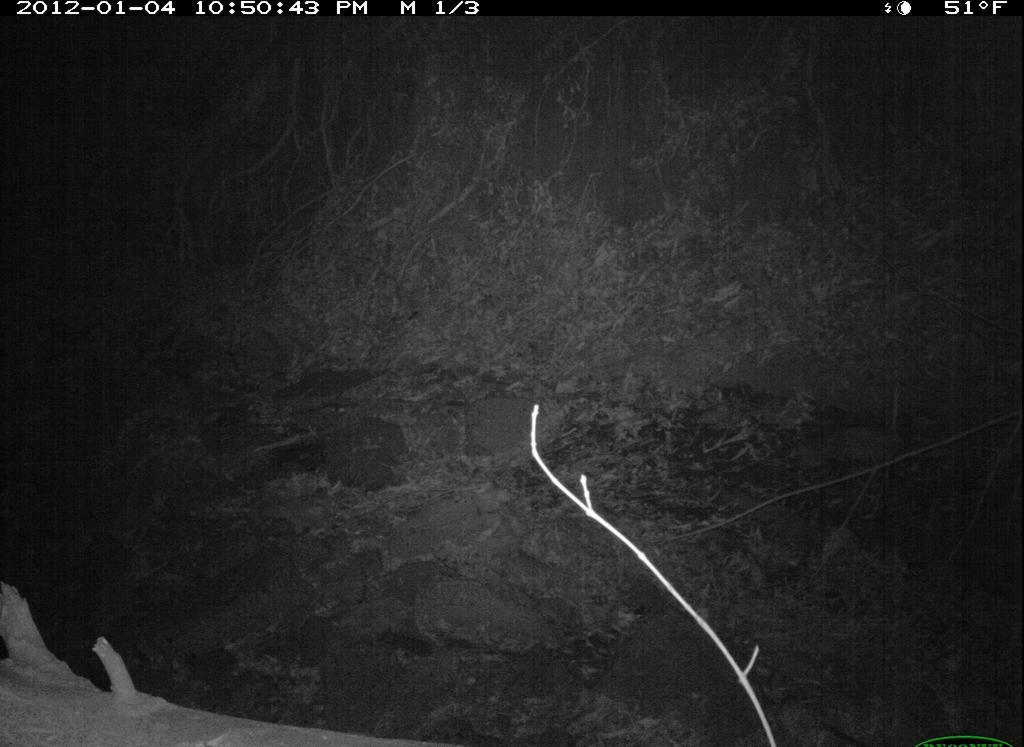opossum: (761, 417, 913, 483)
